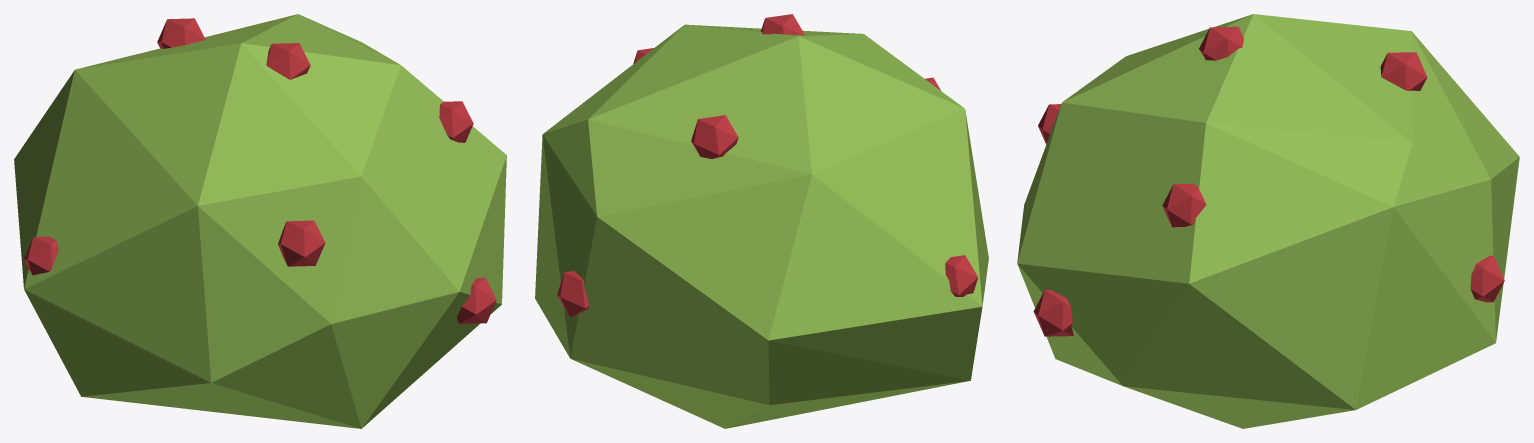
Rendered from Bush_2.fbx.
3 views of the same model, side by side, from view 1: azimuth 30°, elevation 25°; view 2: azimuth 150°, elevation 25°; view 3: azimuth 270°, elevation 25° (orthographic). The views are drawn at different scales.
Visible parts, largest first — view 1: Bush011, BushBerry011; view 2: Bush011, BushBerry011; view 3: Bush011, BushBerry011.
Part boxes in pixels (box(x1,y1,x2,y2)): Bush011: box(14, 14, 506, 428); BushBerry011: box(23, 18, 496, 323); Bush011: box(535, 24, 988, 428); BushBerry011: box(557, 14, 978, 317); Bush011: box(1017, 14, 1519, 428); BushBerry011: box(1033, 26, 1504, 336).
Bounding box in the file's own units: 68.29 × 53.92 × 66.03.
